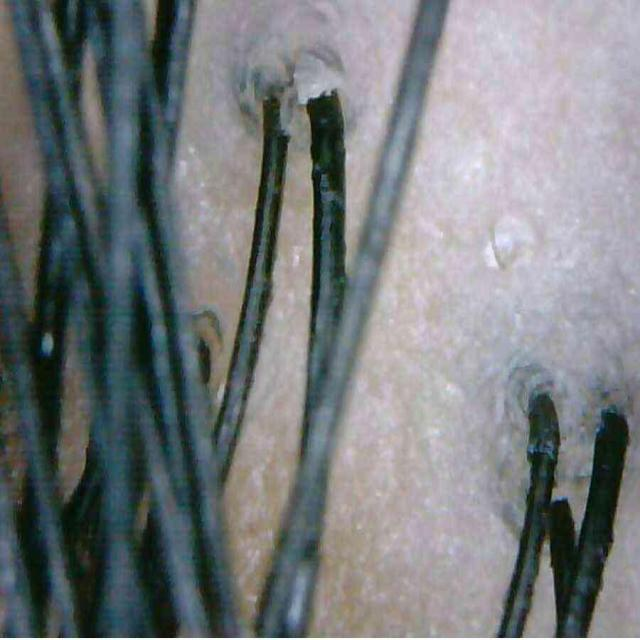d: (484, 215, 538, 269), (294, 48, 341, 106), (40, 332, 54, 358)
